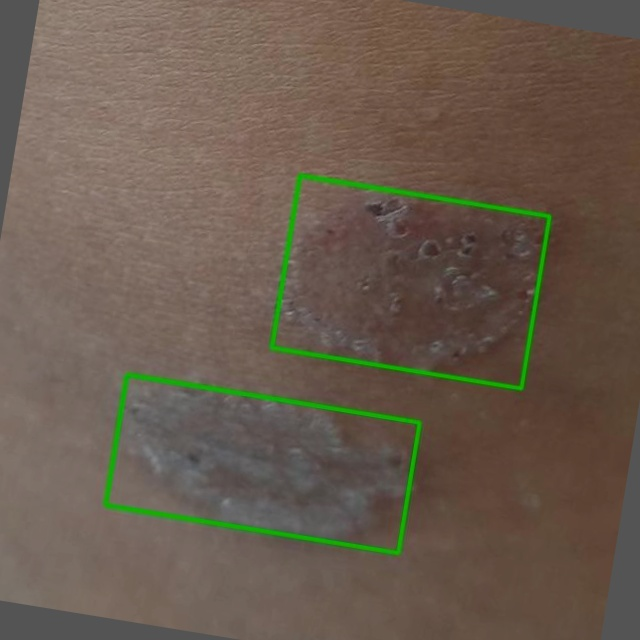Tinea Corporis: (271, 175, 549, 388), (105, 374, 419, 552)
